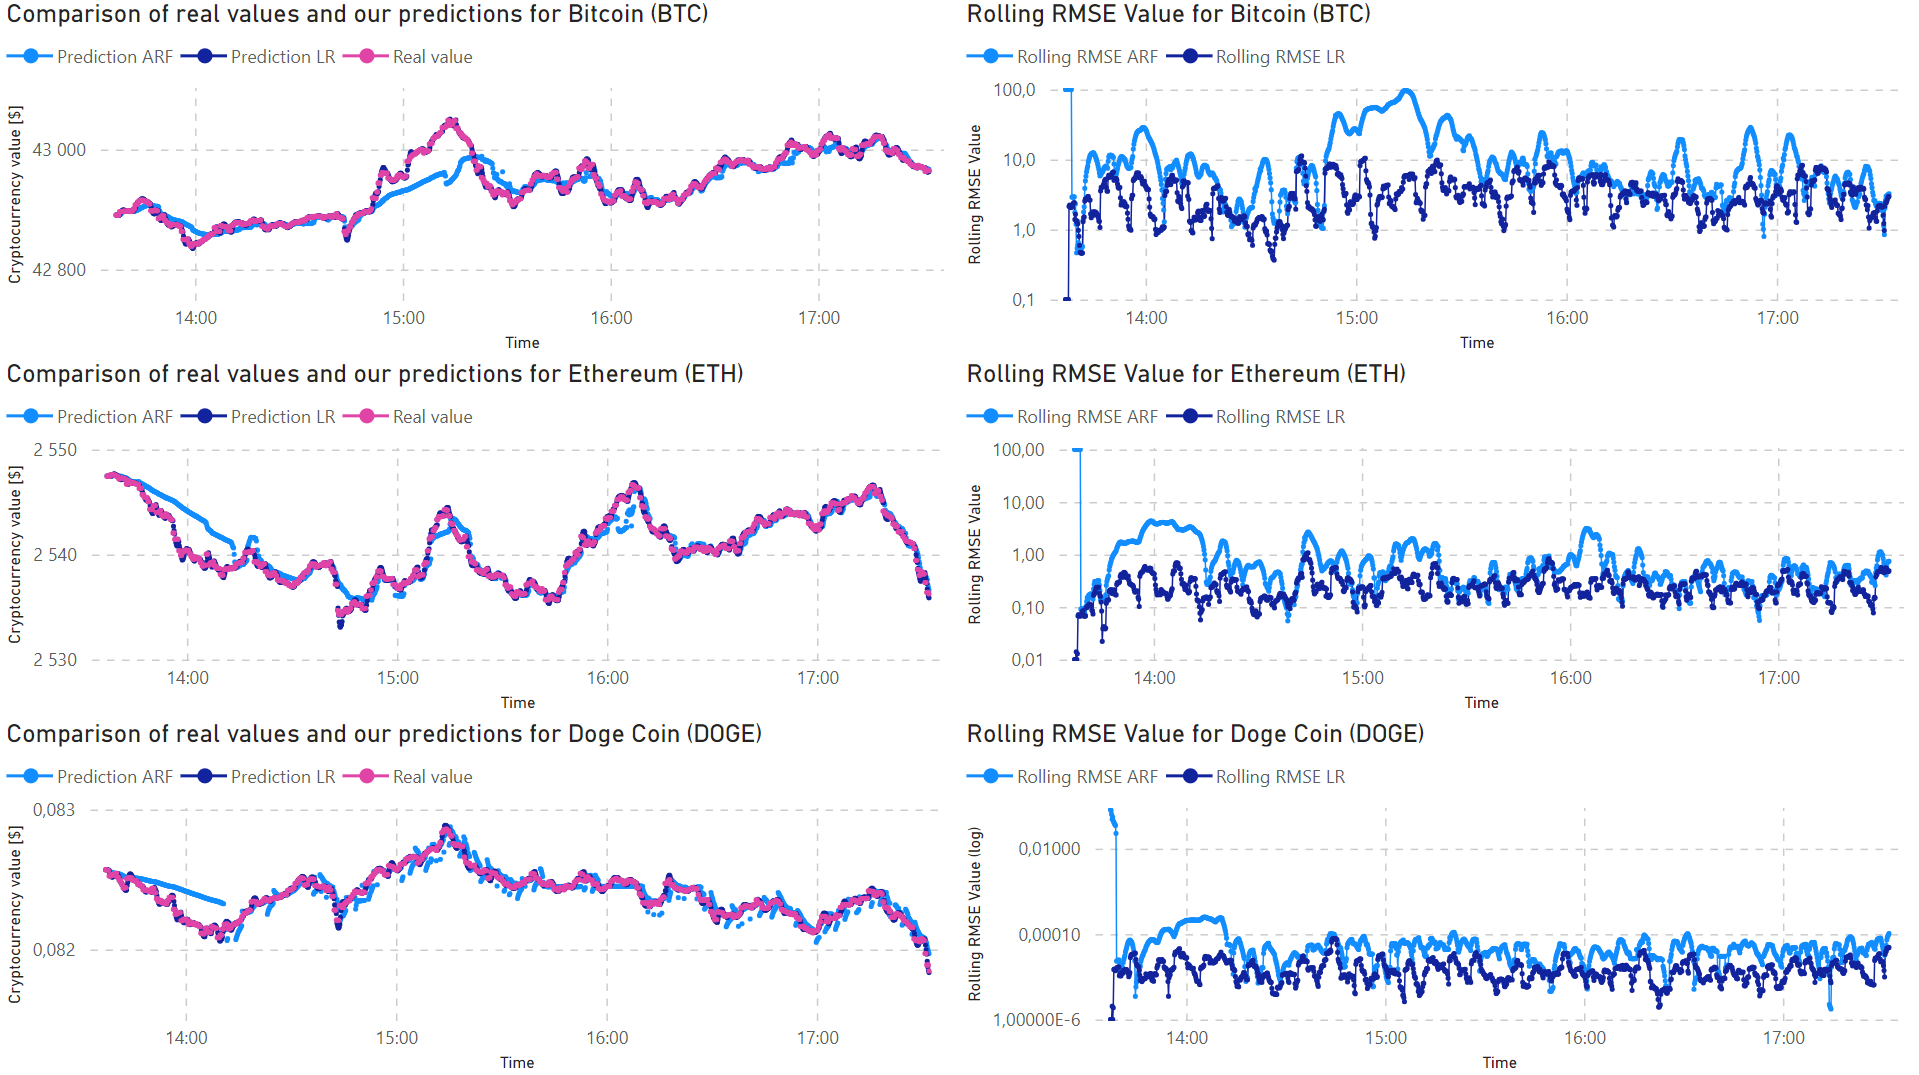

What the dashboard file says about the page in this screenshot:
{"tool":"powerbi","page":{"name":"Real Time Views","canvas":[1280,720],"ordinal":2},"visuals":[{"type":"lineChart","title":"Comparison of real values and our predictions for Bitcoin (BTC)","fields":{"Y":["Avg(ratespredictions.prediction_previous_value_arf)","Avg(ratespredictions.prediction_previous_value_lr)","Avg(ratespredictions.real_previous_value)"],"Category":["ratespredictions.start_window"]},"box":[0,0,640,240],"z":0},{"type":"lineChart","title":"Comparison of real values and our predictions for Doge Coin (DOGE)","fields":{"Y":["Avg(ratespredictions.prediction_previous_value_arf)","Avg(ratespredictions.prediction_previous_value_lr)","Avg(ratespredictions.real_previous_value)"],"Category":["ratespredictions.start_window"]},"box":[0,480,640,240],"z":2},{"type":"lineChart","title":"Comparison of real values and our predictions for Ethereum (ETH)","fields":{"Y":["Avg(ratespredictions.prediction_previous_value_arf)","Avg(ratespredictions.prediction_previous_value_lr)","Avg(ratespredictions.real_previous_value)"],"Category":["ratespredictions.start_window"]},"box":[0,240,640,240],"z":3},{"type":"lineChart","title":"Rolling RMSE Value for Bitcoin (BTC)","fields":{"Category":["ratespredictions.start_window"],"Y":["Avg(ratespredictions.rolling_rmse_arf)","Avg(ratespredictions.rolling_rmse_lr)"]},"box":[640,0,640,240],"z":4},{"type":"lineChart","title":"Rolling RMSE Value for Ethereum (ETH)","fields":{"Category":["ratespredictions.start_window"],"Y":["Avg(ratespredictions.rolling_rmse_arf)","Avg(ratespredictions.rolling_rmse_lr)"]},"box":[640,240,640,240],"z":5},{"type":"lineChart","title":"Rolling RMSE Value for Doge Coin (DOGE)","fields":{"Category":["ratespredictions.start_window"],"Y":["Avg(ratespredictions.rolling_rmse_arf)","Avg(ratespredictions.rolling_rmse_lr)"]},"box":[640,480,640,240],"z":6}]}

Visuals, with their boxes in screenshot pixels (x1, y1, x2, y2), scaled from the page's 1280x720 canvas onto the 1919x1075 screenshot:
"Comparison of real values and our predictions for Bitcoin (BTC)" lineChart: 0,0,960,358
"Comparison of real values and our predictions for Doge Coin (DOGE)" lineChart: 0,717,960,1074
"Comparison of real values and our predictions for Ethereum (ETH)" lineChart: 0,358,960,717
"Rolling RMSE Value for Bitcoin (BTC)" lineChart: 960,0,1918,358
"Rolling RMSE Value for Ethereum (ETH)" lineChart: 960,358,1918,717
"Rolling RMSE Value for Doge Coin (DOGE)" lineChart: 960,717,1918,1074
